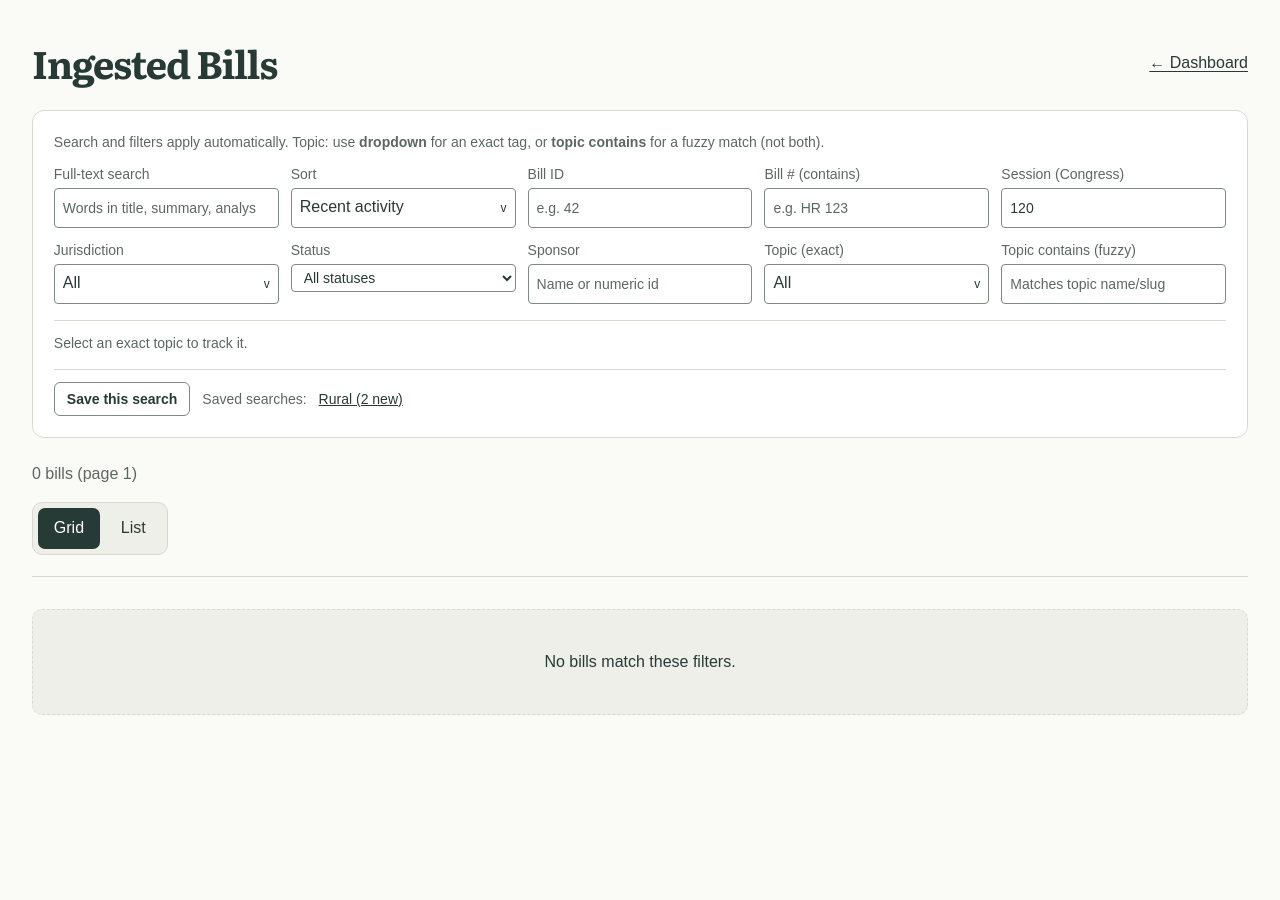
Test: BillsPage › acknowledges a saved search only after its result page is rendered and refreshes server counts
What coordinates should you click on to do the following:
click the button "Rural (2 new)"
I would click on:
 (361, 399)
Its box is x1=319 y1=389 x2=403 y2=409.
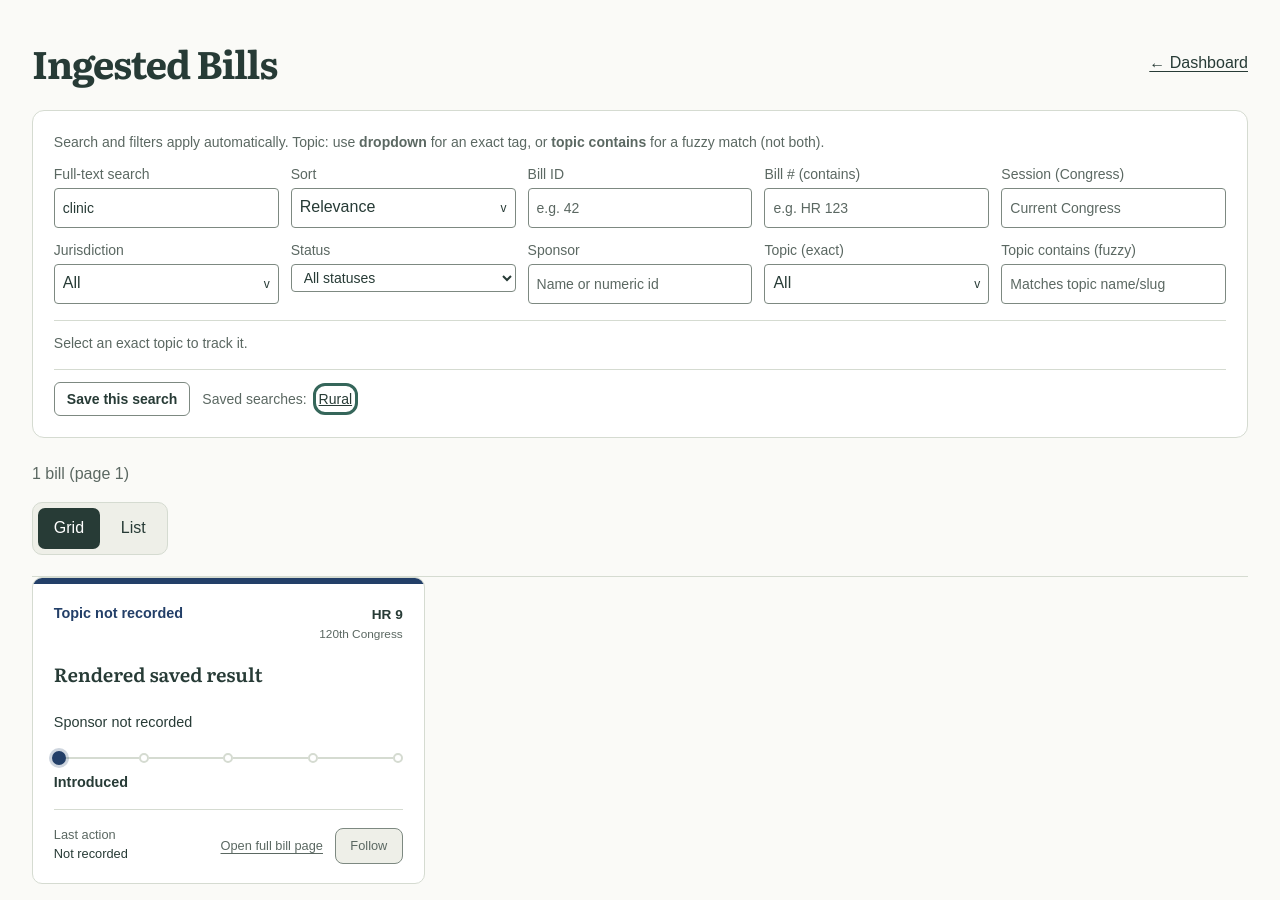
expect the button "Rural" is shown: met, box x1=319 y1=389 x2=352 y2=409
expect the text "Rendered saved result" is shown: met, box x1=54 y1=661 x2=263 y2=688
